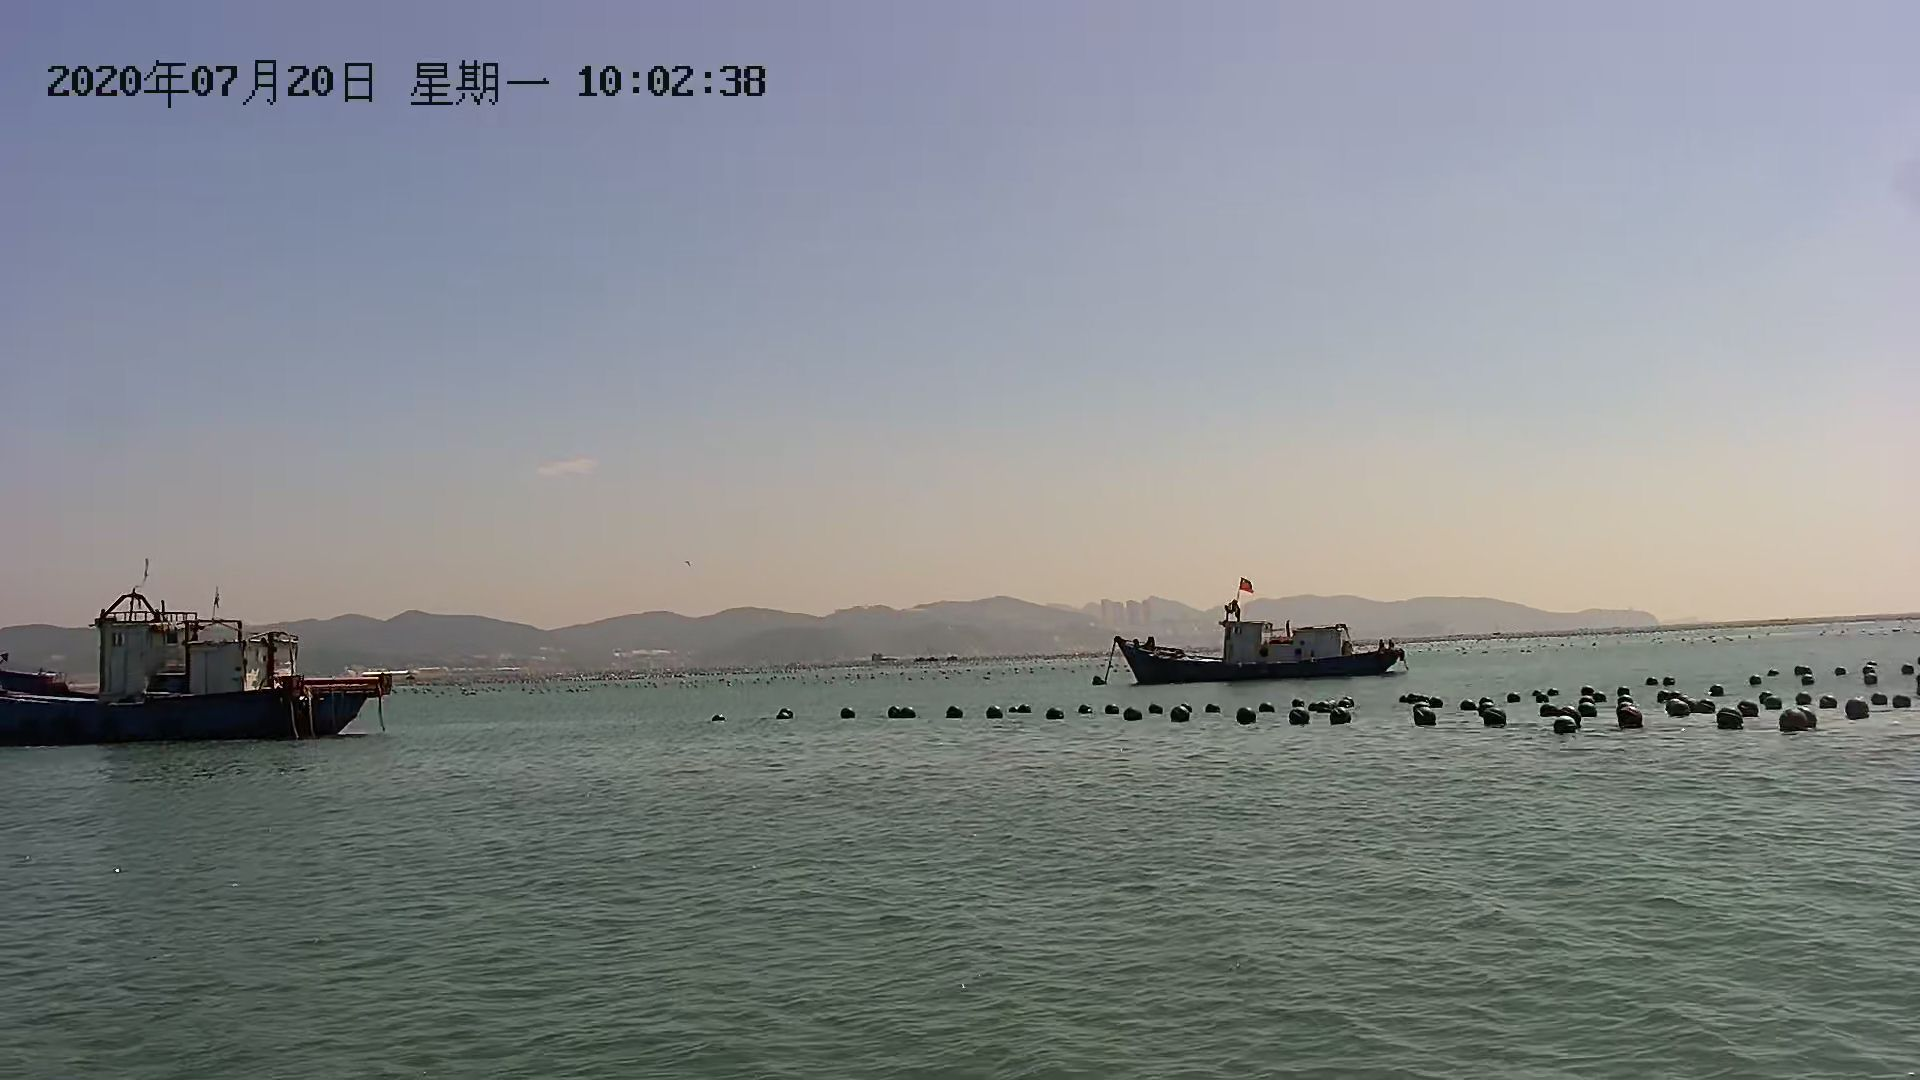ball: (1712, 702, 1745, 738), (1552, 705, 1582, 737), (1615, 703, 1647, 732), (1406, 702, 1439, 729), (1780, 705, 1811, 735), (1842, 694, 1874, 721), (1328, 705, 1354, 729), (1484, 703, 1509, 727), (1234, 703, 1258, 727), (1286, 707, 1311, 729), (1172, 702, 1188, 727)
ship: (1, 597, 396, 745), (1100, 589, 1399, 684)
